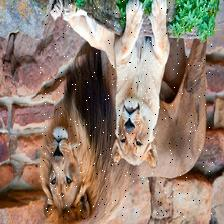Lion: (38, 0, 213, 220), (69, 0, 164, 165)
